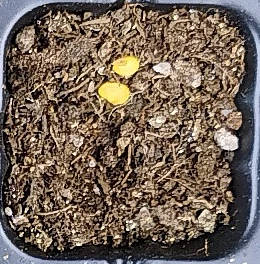pepper seed: (32, 29, 163, 135), (42, 16, 181, 94)
